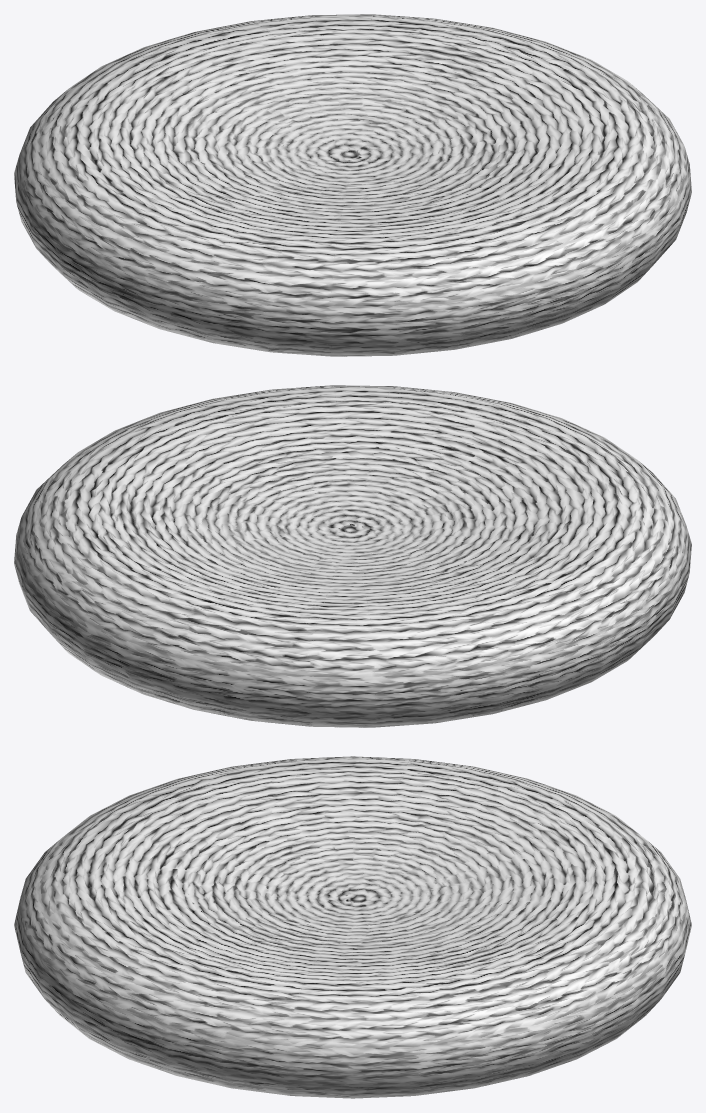
3 renders of one model, top to bottom at view 1: azimuth 30°, elevation 25°; view 2: azimuth 150°, elevation 25°; view 3: azimuth 270°, elevation 25°, orthographic.
Visible parts, largest first — view 1: LC-坐垫; view 2: LC-坐垫; view 3: LC-坐垫.
Part boxes in pixels (box(x1,y1,x2,y2)): LC-坐垫: box(14, 14, 691, 356); LC-坐垫: box(14, 385, 691, 727); LC-坐垫: box(14, 756, 691, 1098).
Size of the model in its own units: 0.4943 by 0.4943 by 0.0822.
